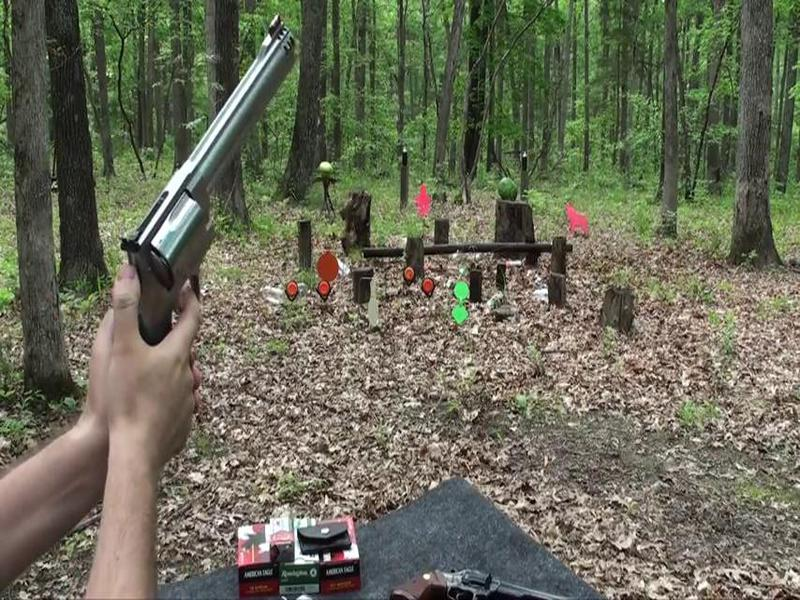Revolver: (133, 24, 297, 347)
